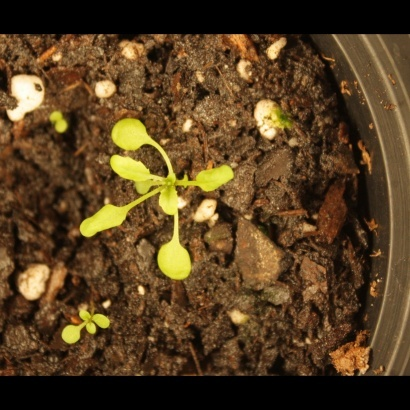leaf: (71, 203, 135, 241), (153, 235, 198, 285), (107, 114, 158, 154), (190, 161, 245, 195), (104, 151, 153, 189), (152, 181, 185, 218), (53, 122, 76, 145), (44, 99, 67, 122), (60, 323, 83, 346), (94, 307, 117, 330), (81, 323, 104, 346), (74, 300, 97, 323), (133, 174, 156, 197)
